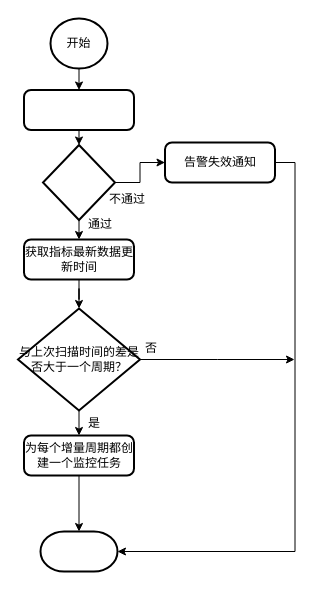
This 321x589 diagram has some shape labels left out. Here are the shapes that lost their labels. From the top down, the centre of each, then its label:
the point at 78,109: 获取告警监控配置
the point at 79,182: 参数校验？
the point at 78,551: 结束
